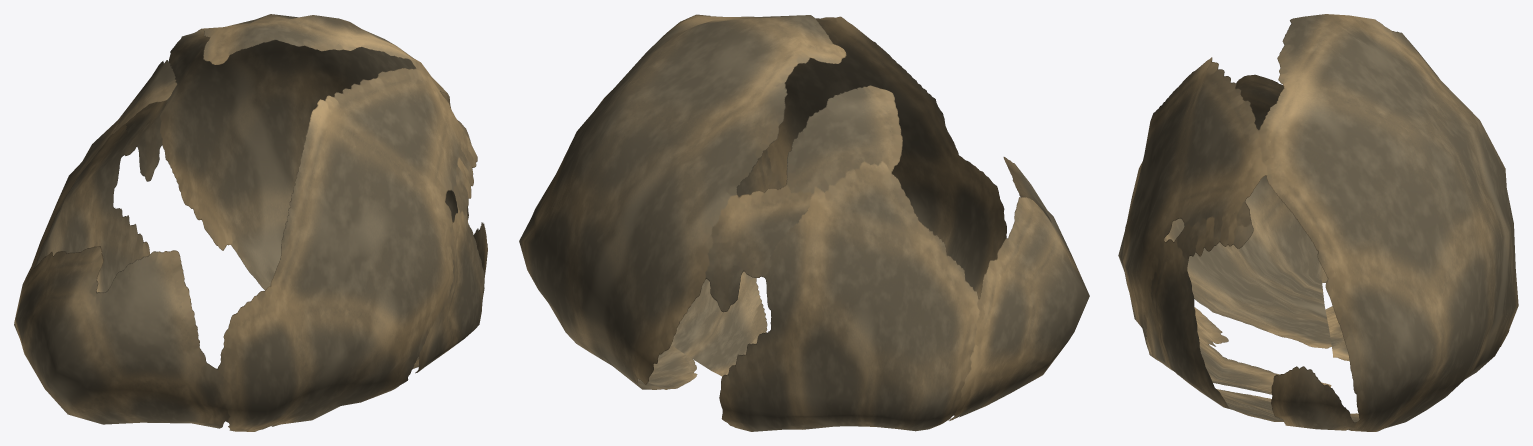
File: round_rock_L 1.fbx
3 views of the same model, side by side, from view 1: azimuth 30°, elevation 25°; view 2: azimuth 150°, elevation 25°; view 3: azimuth 270°, elevation 25° (orthographic).
Visible parts, largest first — view 1: round_rock_L; view 2: round_rock_L; view 3: round_rock_L.
Boxes of the visible parts, <box> form: round_rock_L: <box>14,14,487,431</box>; round_rock_L: <box>519,14,1089,431</box>; round_rock_L: <box>1118,14,1518,431</box>.
Bounding box in the file's own units: 963 × 727 × 707.
